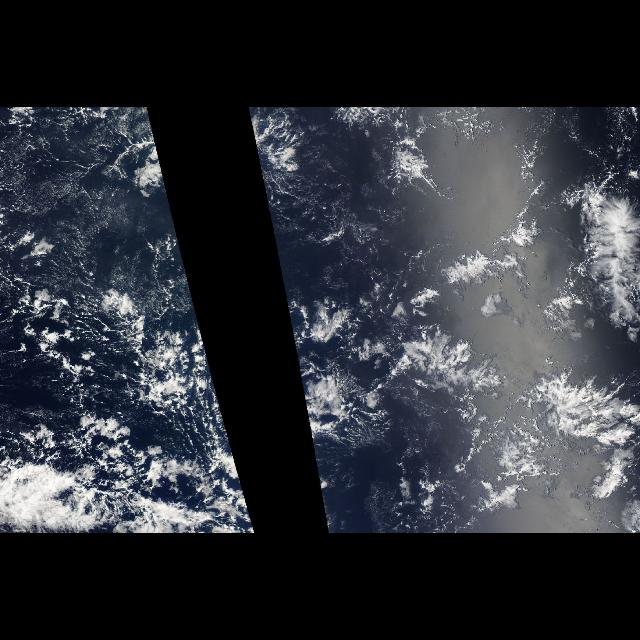Fish: (300, 172, 640, 526)
Flower: (248, 113, 538, 532)
Gravel: (2, 116, 214, 478)
Sugar: (2, 110, 225, 418), (248, 110, 322, 418)
